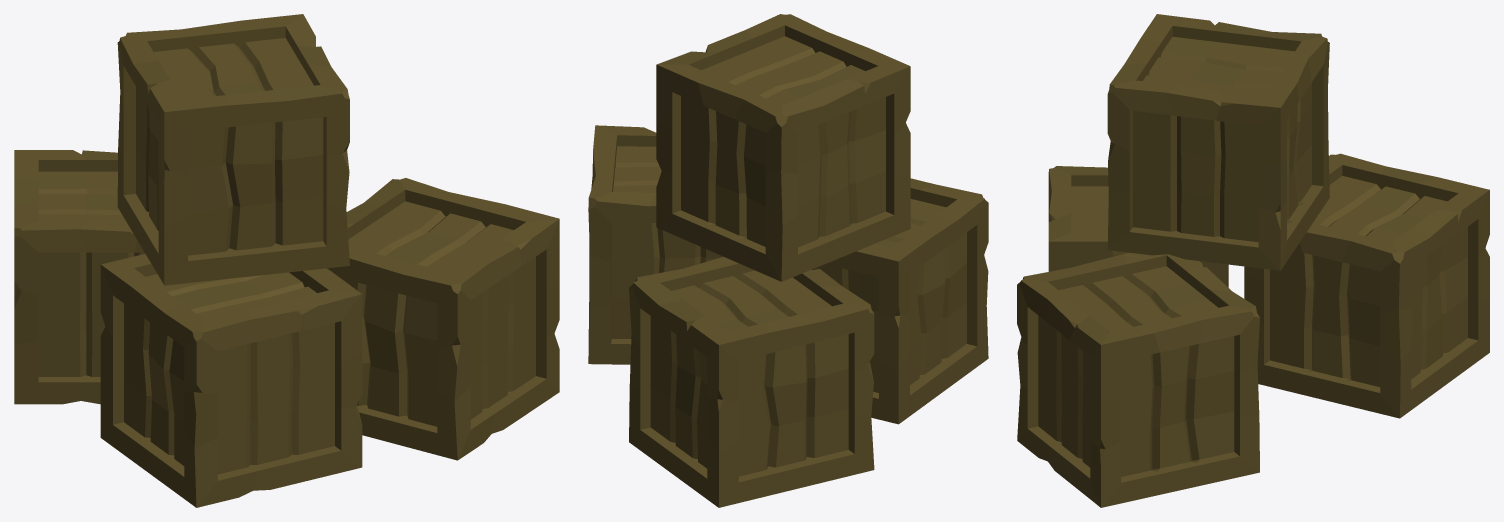
File: crate_comp_2.fbx
3 renders of one model, left to right at view 1: azimuth 30°, elevation 25°; view 2: azimuth 150°, elevation 25°; view 3: azimuth 270°, elevation 25°, orthographic. The views are drawn at different scales.
Visible parts, largest first — view 1: crate_comp_2; view 2: crate_comp_2; view 3: crate_comp_2.
Boxes of the visible parts, x1,y1,x2,y2 form: crate_comp_2: (14,14,559,507); crate_comp_2: (588,14,988,507); crate_comp_2: (1017,14,1489,507).
Bounding box in the file's own units: 190 × 149 × 196.
